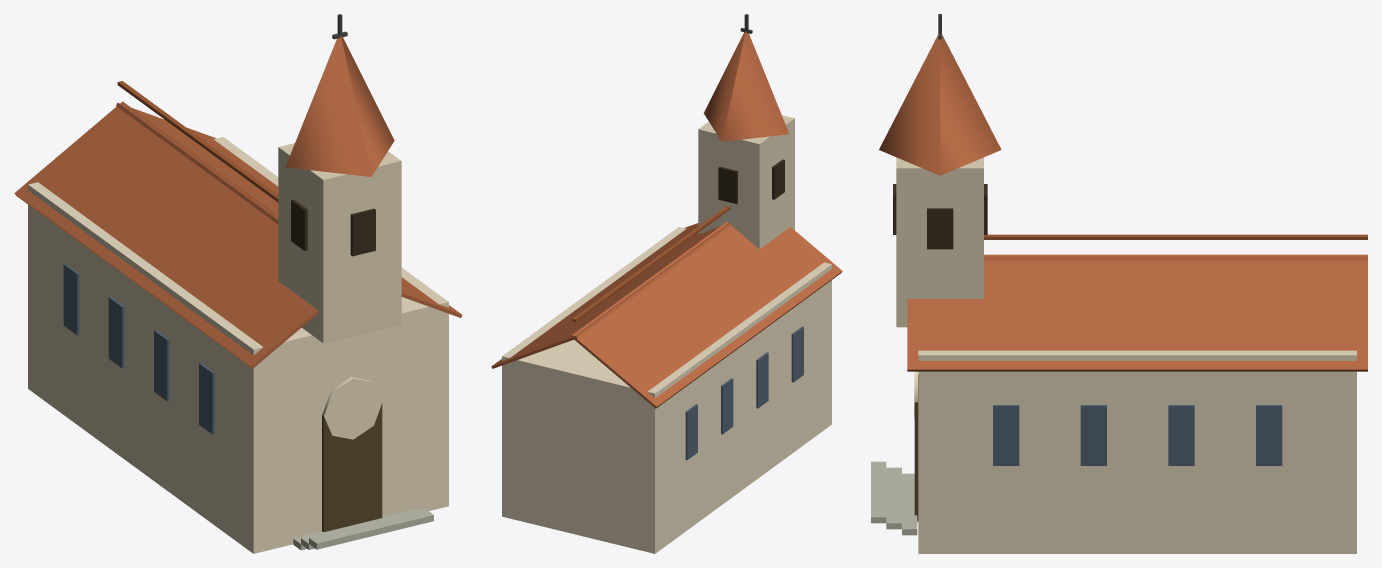
The model's file is church.glb.
3 renders of one model, left to right at view 1: azimuth 30°, elevation 25°; view 2: azimuth 150°, elevation 25°; view 3: azimuth 270°, elevation 25°, orthographic. The views are drawn at different scales.
Visible parts, largest first — view 1: Mesh_Nave, Mesh_RoofLeft, Mesh_BellTower, Mesh_TowerRoof, Mesh_FrontDoor, Mesh_RoofRight, Mesh_DoorArch, Mesh_Step3, Mesh_RoofRidge, Mesh_BellOpenFront, Mesh_WinLeft1, Mesh_WinLeft2 (+3 smaller); view 2: Mesh_Nave, Mesh_RoofLeft, Mesh_BellTower, Mesh_TowerRoof, Mesh_RoofRight, Mesh_RoofRidge, Mesh_BellOpenBack, Mesh_WinLeft3, Mesh_WinLeft2, Mesh_WinLeft4, Mesh_WinLeft1, Mesh_BellOpenLeft; view 3: Mesh_Nave, Mesh_RoofRight, Mesh_BellTower, Mesh_TowerRoof, Mesh_RoofRidge, Mesh_WinRight1, Mesh_WinRight2, Mesh_WinRight3, Mesh_WinRight4, Mesh_RoofLeft, Mesh_BellOpenRight, Mesh_Step2 (+3 smaller).
Boxes of the visible parts, x1,y1,x2,y2 form: Mesh_Nave: (28, 137, 448, 553); Mesh_RoofLeft: (14, 101, 317, 368); Mesh_BellTower: (278, 143, 401, 343); Mesh_TowerRoof: (285, 36, 394, 176); Mesh_FrontDoor: (322, 403, 382, 531); Mesh_RoofRight: (116, 102, 462, 317); Mesh_DoorArch: (322, 377, 382, 439); Mesh_Step3: (309, 509, 433, 549); Mesh_RoofRidge: (117, 81, 278, 202); Mesh_BellOpenFront: (350, 208, 375, 256); Mesh_WinLeft1: (63, 264, 79, 335); Mesh_WinLeft2: (108, 297, 124, 368); Mesh_Nave: (502, 227, 831, 553); Mesh_RoofLeft: (571, 222, 842, 408); Mesh_BellTower: (698, 115, 794, 249); Mesh_TowerRoof: (703, 31, 788, 141); Mesh_RoofRight: (491, 223, 731, 368); Mesh_RoofRidge: (572, 205, 730, 322); Mesh_BellOpenBack: (718, 166, 737, 203); Mesh_WinLeft3: (756, 352, 768, 408); Mesh_WinLeft2: (721, 378, 733, 434); Mesh_WinLeft4: (791, 326, 803, 382); Mesh_WinLeft1: (685, 404, 697, 460); Mesh_BellOpenLeft: (772, 159, 784, 199); Mesh_Nave: (918, 350, 1356, 553); Mesh_RoofRight: (907, 254, 1367, 371); Mesh_BellTower: (896, 157, 983, 327); Mesh_TowerRoof: (879, 34, 1001, 175); Mesh_RoofRidge: (984, 234, 1367, 239); Mesh_WinRight1: (1256, 405, 1282, 465); Mesh_WinRight2: (1168, 405, 1194, 465); Mesh_WinRight3: (1080, 405, 1106, 465); Mesh_WinRight4: (993, 405, 1019, 465); Mesh_RoofLeft: (984, 257, 1367, 260); Mesh_BellOpenRight: (927, 208, 953, 249); Mesh_Step2: (886, 467, 901, 529).
Bounding box in the file's own units: 5.41 × 12.4 × 11.32.
